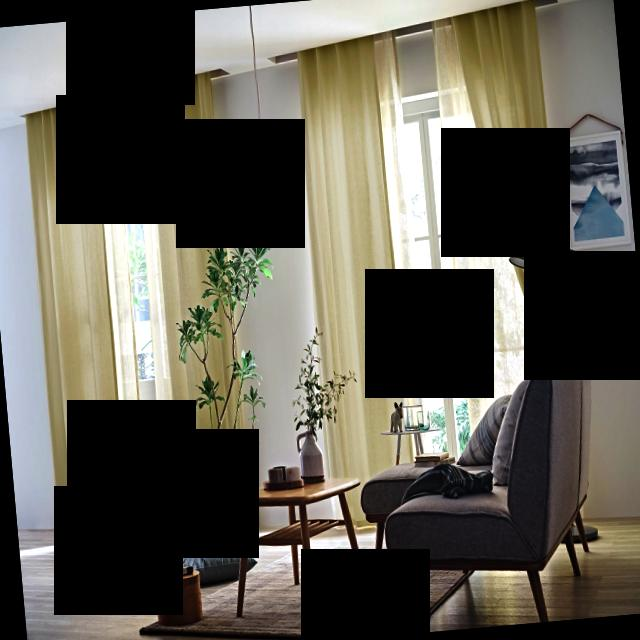modern desk: (215, 455, 368, 632)
modern sofa: (350, 350, 616, 636)
